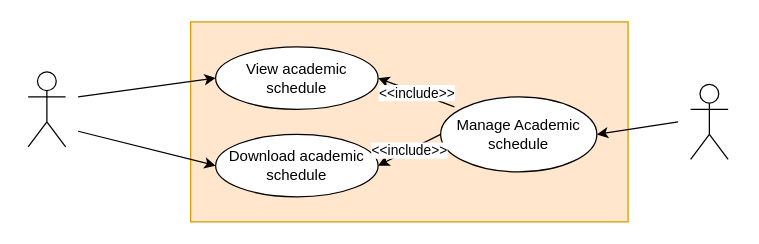
Image size: 759x244. Some labels were removed from this diagram. The box of each missing label's shape, as (x1, y1, x2, y2) in pixels:
Lecturer: (689, 83, 728, 159)
Student: (27, 71, 66, 147)
